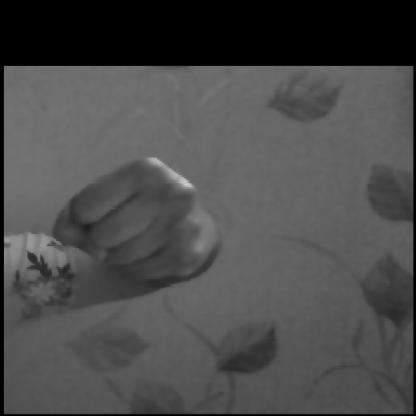fist: (46, 144, 240, 284)
